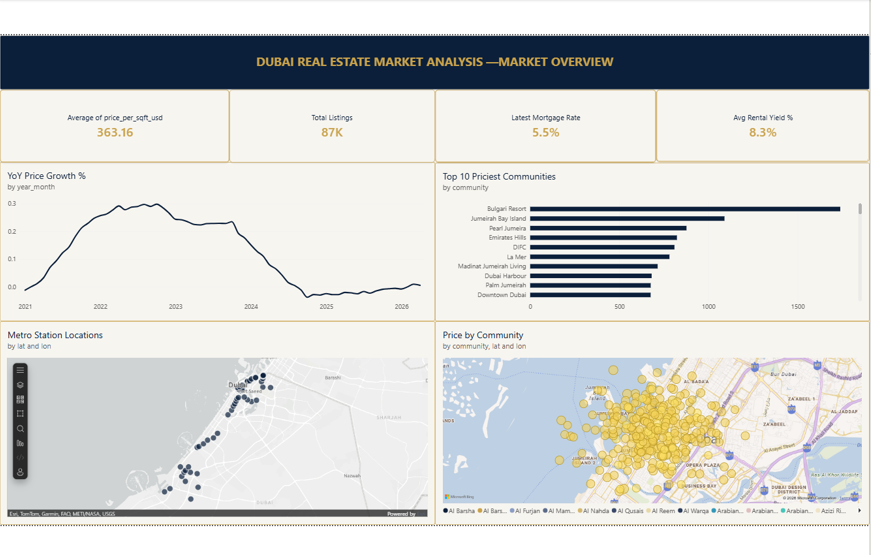

Layout of this report page (visuals, bound fields, positions):
{"tool":"powerbi","page":{"name":"Market Overview","canvas":[1920,1080],"ordinal":0},"visuals":[{"type":"lineChart","fields":{"Category":["area_prices_monthly.year_month"],"Y":["area_prices_monthly.YoY Price Growth %"]},"box":[0,297.6,960,319.5],"z":0},{"type":"cardVisual","fields":{"Data":["Avg(fact_listings.price_per_sqft_usd)"]},"box":[0,137.1,480,160.5],"z":1000},{"type":"cardVisual","fields":{"Data":["fact_listings.Total Listings"]},"box":[480,137.1,480,160.5],"z":2000},{"type":"clusteredBarChart","fields":{"Category":["dim_community.community"],"Y":["Avg(fact_listings.price_per_sqft_usd)"]},"box":[960,297.6,960,319.5],"z":3000},{"type":"esriVisual","fields":{"Latitude":["dim_metro.lat"],"Longitude":["dim_metro.lon"]},"box":[0,617.1,960,462.5],"z":4000},{"type":"map","fields":{"Series":["fact_listings.community"],"Size":["Avg(fact_listings.price_per_sqft_usd)"],"X":["fact_listings.lon"],"Y":["fact_listings.lat"]},"box":[960,617.1,960,462.5],"z":5000},{"type":"cardVisual","fields":{"Data":["area_prices_monthly.Latest Mortgage Rate"]},"box":[960,137.1,480,160.5],"z":6000},{"type":"cardVisual","fields":{"Data":["area_prices_monthly.Avg Rental Yield %"]},"box":[1440,137.1,480,160],"z":7000},{"type":"shape","box":[0,0,1920,137.1],"z":8000},{"type":"textbox","box":[0,0,1920,137.1],"z":9000}]}

Visuals, with their boxes on the page's 1920x1080 design canvas (x1, y1, x2, y2). These are canvas units, not pixel positions in the 871x555 screenshot, which may show the page scaled, cropped or inside an application window:
lineChart - area_prices_monthly.year_month x area_prices_monthly.YoY Price Growth %: select_region(0, 298, 960, 617)
cardVisual - Avg(fact_listings.price_per_sqft_usd): select_region(0, 137, 480, 298)
cardVisual - fact_listings.Total Listings: select_region(480, 137, 960, 298)
clusteredBarChart - dim_community.community x Avg(fact_listings.price_per_sqft_usd): select_region(960, 298, 1920, 617)
esriVisual - dim_metro.lat x dim_metro.lon: select_region(0, 617, 960, 1080)
map - fact_listings.community x Avg(fact_listings.price_per_sqft_usd): select_region(960, 617, 1920, 1080)
cardVisual - area_prices_monthly.Latest Mortgage Rate: select_region(960, 137, 1440, 298)
cardVisual - area_prices_monthly.Avg Rental Yield %: select_region(1440, 137, 1920, 297)
shape: select_region(0, 0, 1920, 137)
textbox: select_region(0, 0, 1920, 137)
